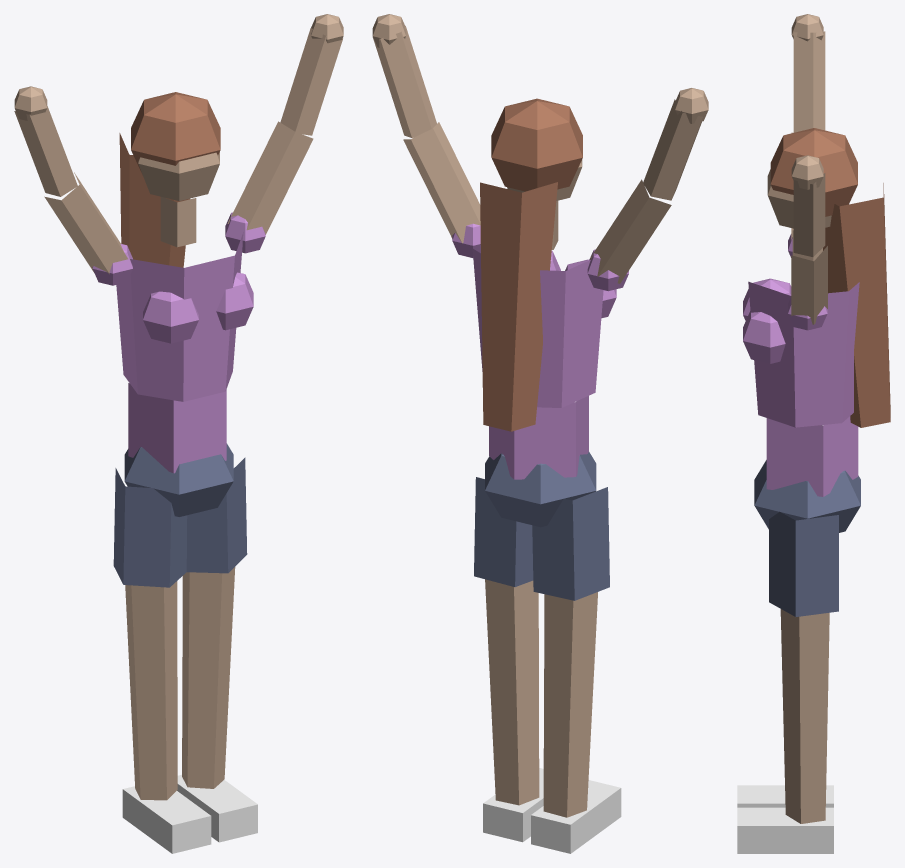
Rendered from fan_girl_cheer.glb.
3 views of the same model, side by side, from view 1: azimuth 30°, elevation 25°; view 2: azimuth 150°, elevation 25°; view 3: azimuth 270°, elevation 25° (orthographic). The views are drawn at different scales.
Visible parts, largest first — view 1: fan_girl_cheer; view 2: fan_girl_cheer; view 3: fan_girl_cheer.
Boxes of the visible parts, box(x1,y1,x2,y2) form: fan_girl_cheer: box(14, 14, 343, 853); fan_girl_cheer: box(372, 14, 708, 853); fan_girl_cheer: box(737, 14, 890, 853).
Bounding box in the file's own units: 0.8018 × 1.78 × 0.331.
